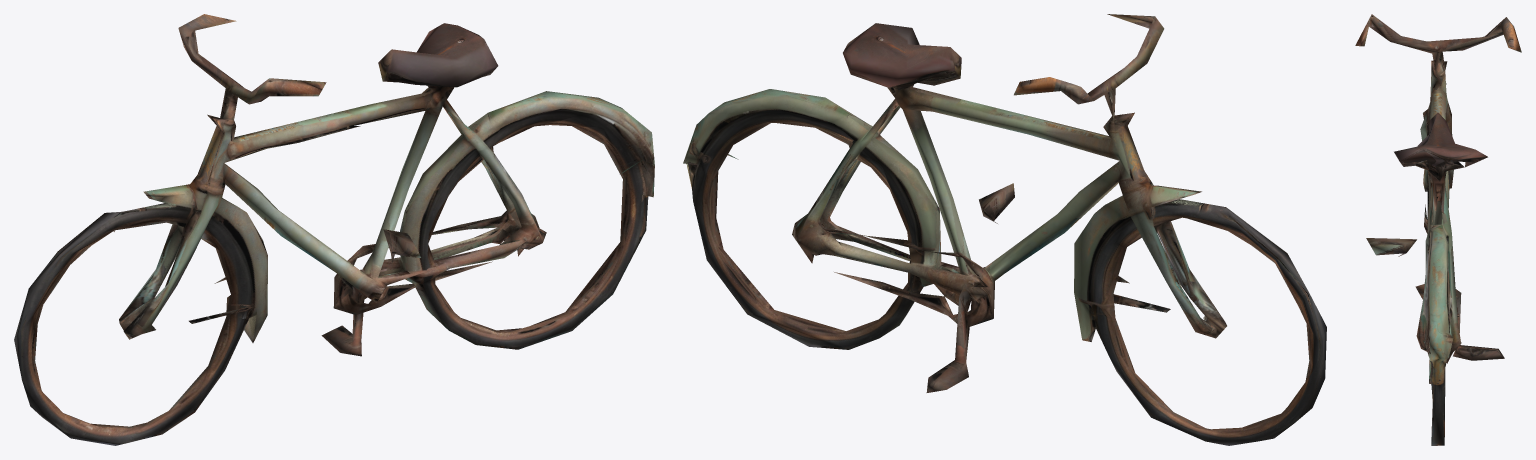
Rendered from Rustic_Ride_1121014940_texture.fbx.
3 views of the same model, side by side, from view 1: azimuth 30°, elevation 25°; view 2: azimuth 150°, elevation 25°; view 3: azimuth 270°, elevation 25° (orthographic). The views are drawn at different scales.
Parts seen in each view (by area): view 1: Mesh1.0; view 2: Mesh1.0; view 3: Mesh1.0.
Part boxes in pixels (x1,y1,x2,y2): Mesh1.0: (14, 14, 654, 445); Mesh1.0: (683, 14, 1326, 445); Mesh1.0: (1355, 14, 1521, 445).
Size of the model in its own units: 200 by 111 by 55.66.
Materials: 1 (1 with a texture image).
